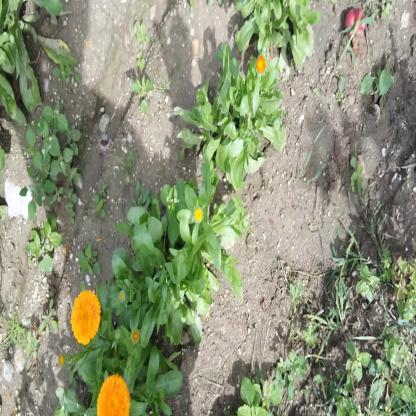marigold: (98, 374, 131, 415), (71, 292, 98, 342)
